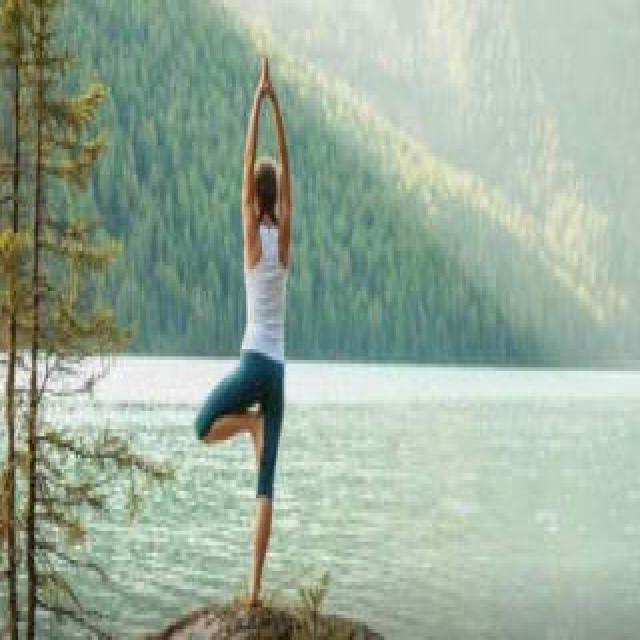yoga-pose tree: (192, 47, 304, 600)
